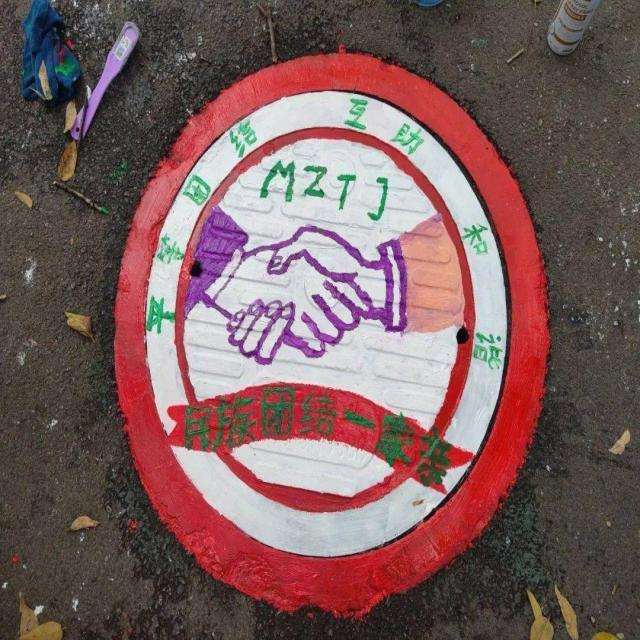manhole: (111, 51, 552, 623)
